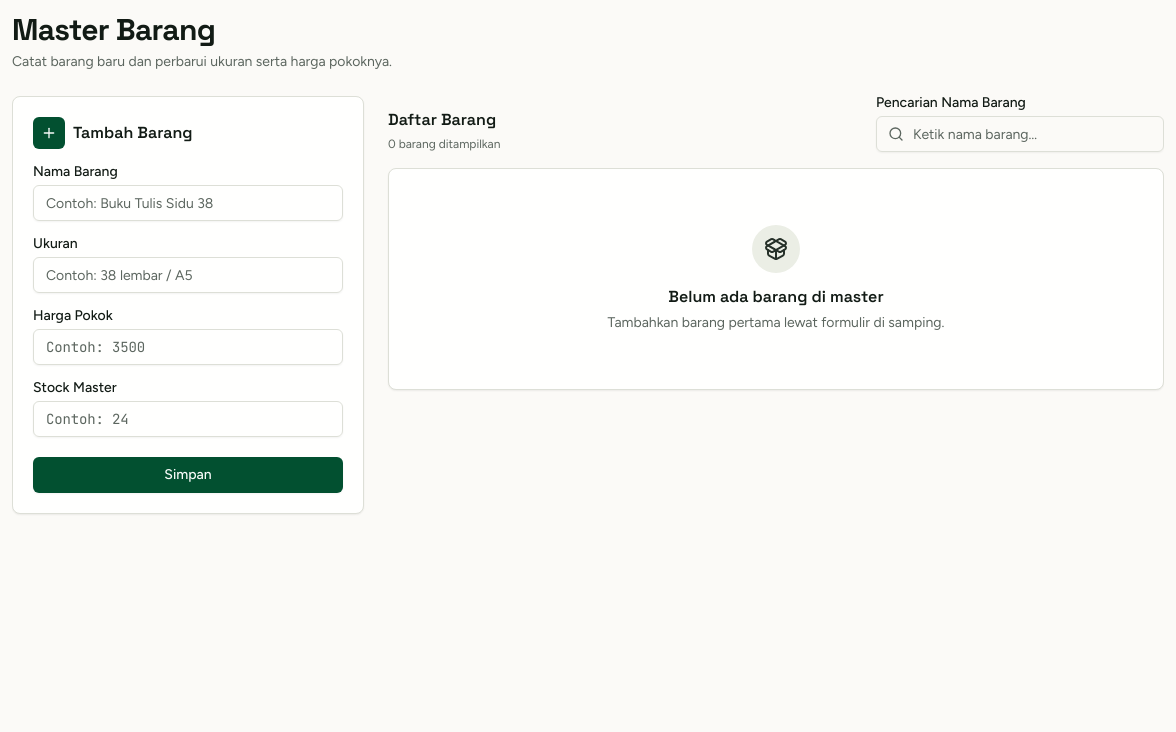
Scenario: MasterBarangPage › rejects an empty add form with per-field validation messages
Expected: the text "Belum ada barang di master" is shown, [668,286,884,307]
Click the button with test id "master.submit_button".
click(188, 475)  # box [33,457,343,493]
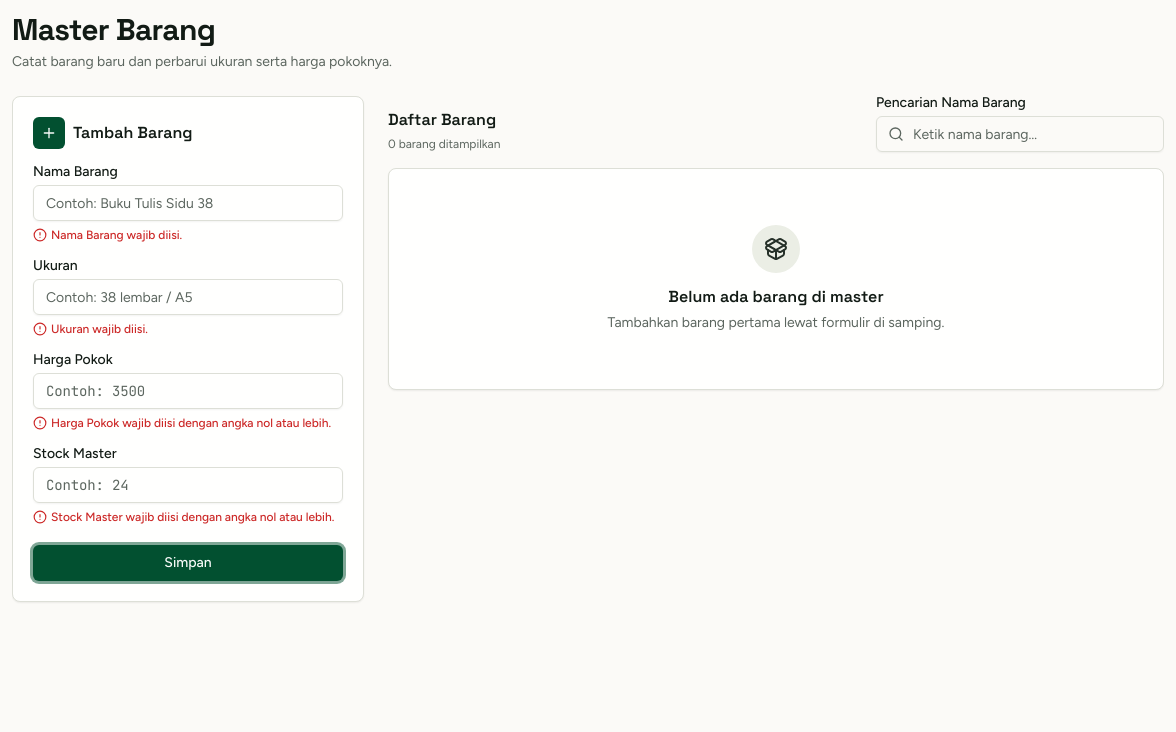
Expected: the element with test id "master.nama_error" reads "Nama Barang wajib diisi.", [51,228,182,242]
Expected: the element with test id "master.ukuran_error" reads "Ukuran wajib diisi.", [51,322,148,336]
Expected: the element with test id "master.harga_error" shows "Harga Pokok wajib diisi", [51,416,331,430]
